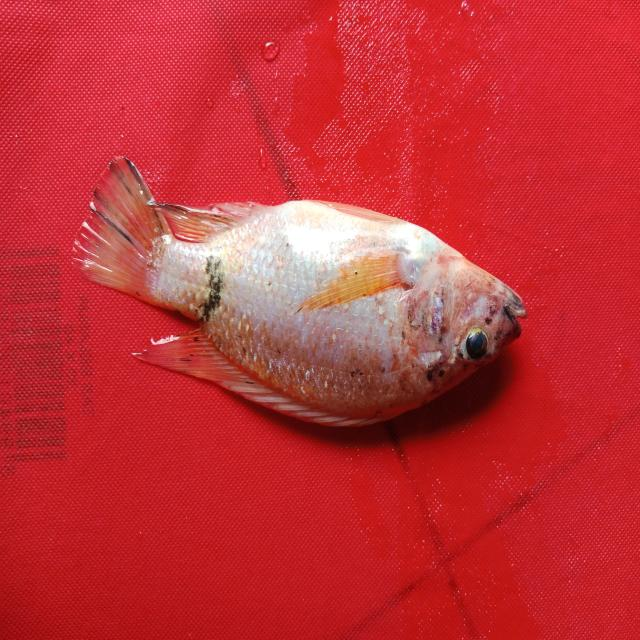ikan: (71, 154, 527, 429)
